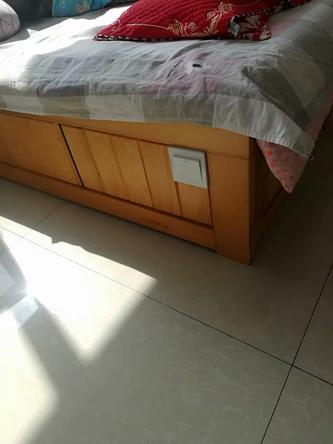switch: (173, 155, 205, 184)
